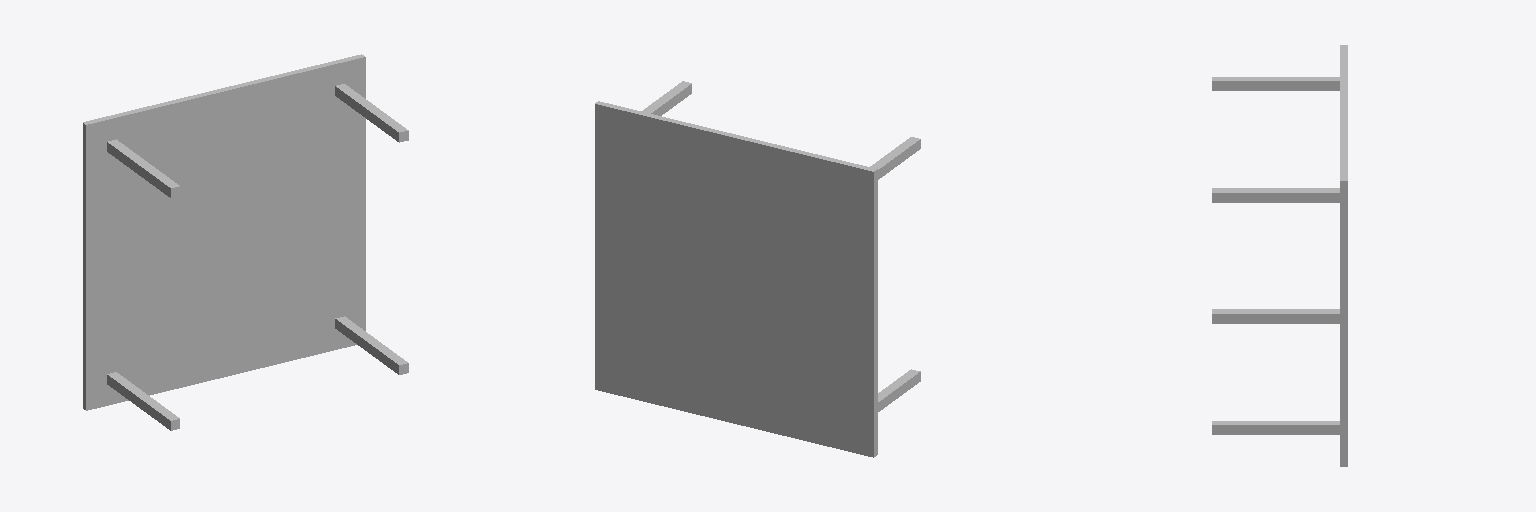
Rendered from random_table3.obj.
3 renders of one model, left to right at view 1: azimuth 30°, elevation 25°; view 2: azimuth 150°, elevation 25°; view 3: azimuth 270°, elevation 25°, orthographic.
Parts seen in each view (by area): view 1: Table_Cube.210, TableLeg2_Cube.213, TableLeg0_Cube.211, TableLeg1_Cube.212, TableLeg3_Cube.214; view 2: Table_Cube.210, TableLeg1_Cube.212, TableLeg3_Cube.214, TableLeg0_Cube.211; view 3: Table_Cube.210, TableLeg0_Cube.211, TableLeg3_Cube.214, TableLeg1_Cube.212, TableLeg2_Cube.213.
Boxes of the visible parts, box(x1,y1,x2,y2) form: Table_Cube.210: box(83, 54, 365, 410); TableLeg2_Cube.213: box(335, 316, 408, 374); TableLeg0_Cube.211: box(335, 84, 408, 142); TableLeg1_Cube.212: box(107, 139, 179, 197); TableLeg3_Cube.214: box(107, 372, 179, 430); Table_Cube.210: box(595, 101, 877, 457); TableLeg1_Cube.212: box(870, 137, 920, 179); TableLeg3_Cube.214: box(878, 369, 920, 411); TableLeg0_Cube.211: box(641, 81, 691, 115); Table_Cube.210: box(1340, 45, 1347, 466); TableLeg0_Cube.211: box(1212, 188, 1339, 202); TableLeg3_Cube.214: box(1212, 309, 1339, 323); TableLeg1_Cube.212: box(1212, 77, 1339, 90); TableLeg2_Cube.213: box(1212, 421, 1339, 434).
Bounding box in the file's own units: 6.98 × 6.82 × 2.92.